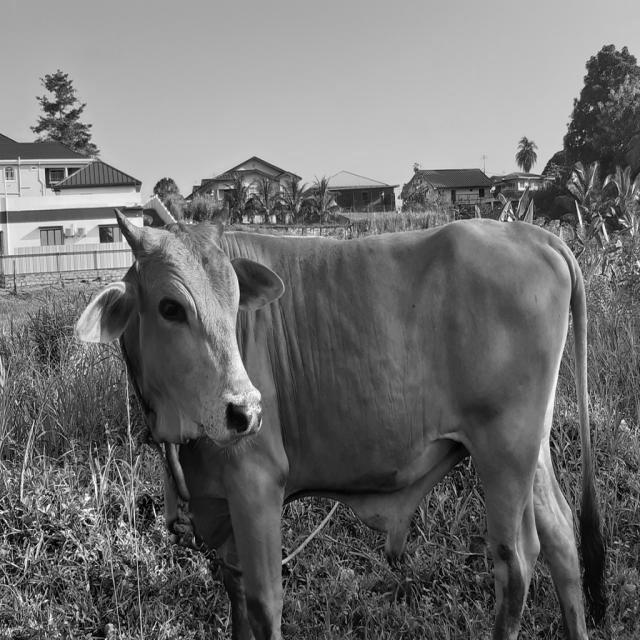cow: (75, 214, 605, 640)
